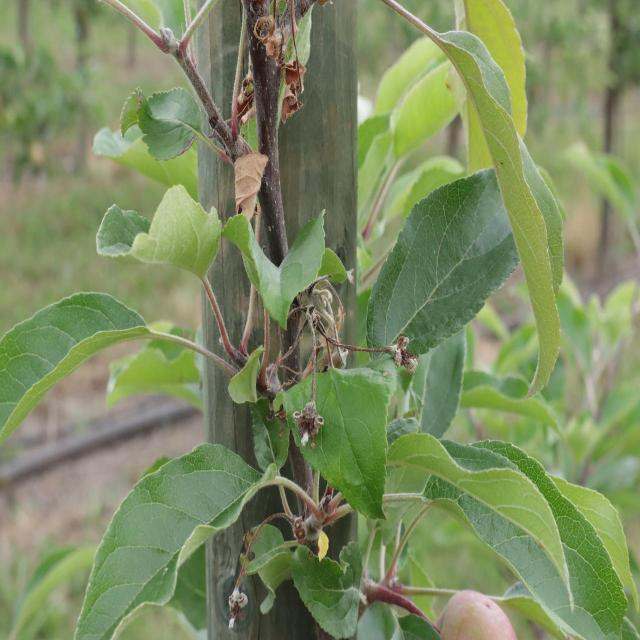-FireBlight-: (220, 6, 296, 220)
